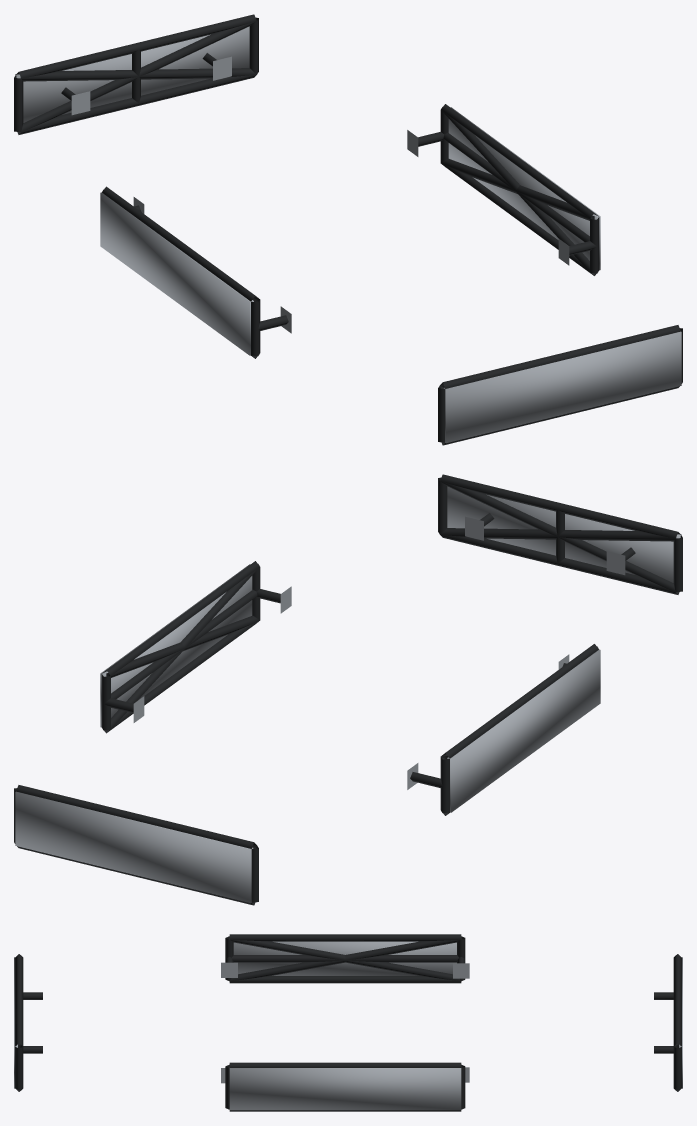
Rendered from bancroft_seixo_protecao.glb.
3 renders of one model, top to bottom at view 1: azimuth 30°, elevation 25°; view 2: azimuth 150°, elevation 25°; view 3: azimuth 270°, elevation 25°, orthographic. The views are drawn at different scales.
Parts seen in each view (by area): view 1: Protection_front_Level3_Details, Protection_left_Level3_Details, Protection_rear_Level1_Details, Protection_rear_Level3_Details, Protection_right_Level1_Details, Protection_rear_Level2_Details, Protection_right_Level2_Details, Protection_right_Level3_Details, Protection_front_Level1_Details, Protection_left_Level1_Details; view 2: Protection_rear_Level3_Details, Protection_left_Level3_Details, Protection_front_Level1_Details, Protection_front_Level3_Details, Protection_right_Level1_Details, Protection_front_Level2_Details, Protection_right_Level2_Details, Protection_right_Level3_Details, Protection_rear_Level1_Details, Protection_left_Level1_Details; view 3: Protection_right_Level3_Details, Protection_left_Level2_Details, Protection_left_Level1_Details, Protection_left_Level3_Details, Protection_right_Level1_Details, Protection_rear_Level1_Details, Protection_front_Level1_Details.
Boxes of the visible parts, x1=… form: Protection_front_Level3_Details: x1=443, y1=331, x2=681, y2=443; Protection_left_Level3_Details: x1=100, y1=192, x2=253, y2=355; Protection_rear_Level1_Details: x1=14, y1=14, x2=258, y2=134; Protection_rear_Level3_Details: x1=15, y1=26, x2=249, y2=122; Protection_right_Level1_Details: x1=407, y1=104, x2=599, y2=275; Protection_rear_Level2_Details: x1=16, y1=21, x2=256, y2=133; Protection_right_Level2_Details: x1=441, y1=110, x2=598, y2=275; Protection_right_Level3_Details: x1=448, y1=107, x2=600, y2=270; Protection_front_Level1_Details: x1=438, y1=325, x2=682, y2=445; Protection_left_Level1_Details: x1=102, y1=186, x2=291, y2=358; Protection_rear_Level3_Details: x1=15, y1=791, x2=253, y2=903; Protection_left_Level3_Details: x1=447, y1=649, x2=600, y2=812; Protection_front_Level1_Details: x1=438, y1=474, x2=682, y2=594; Protection_front_Level3_Details: x1=447, y1=486, x2=681, y2=582; Protection_right_Level1_Details: x1=101, y1=561, x2=291, y2=733; Protection_front_Level2_Details: x1=440, y1=481, x2=680, y2=593; Protection_right_Level2_Details: x1=102, y1=567, x2=259, y2=732; Protection_right_Level3_Details: x1=100, y1=564, x2=252, y2=727; Protection_rear_Level1_Details: x1=14, y1=785, x2=258, y2=905; Protection_left_Level1_Details: x1=407, y1=644, x2=598, y2=815; Protection_right_Level3_Details: x1=229, y1=1068, x2=461, y2=1110; Protection_left_Level2_Details: x1=229, y1=937, x2=461, y2=981; Protection_left_Level1_Details: x1=221, y1=934, x2=469, y2=983; Protection_left_Level3_Details: x1=233, y1=941, x2=456, y2=975; Protection_right_Level1_Details: x1=221, y1=1062, x2=469, y2=1111; Protection_rear_Level1_Details: x1=654, y1=954, x2=681, y2=1091; Protection_front_Level1_Details: x1=15, y1=954, x2=42, y2=1091.
Bounding box in the file's own units: 2.05 × 0.354 × 4.36.
Materials: 1 (1 with a texture image).
